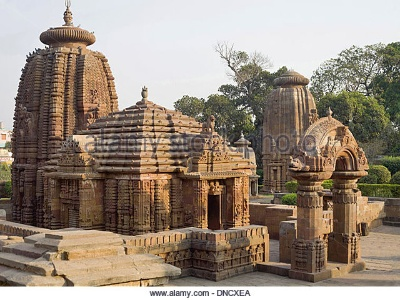amalaka: (36, 21, 102, 46)
gopuram: (11, 45, 122, 193)
torana: (297, 111, 374, 273)
